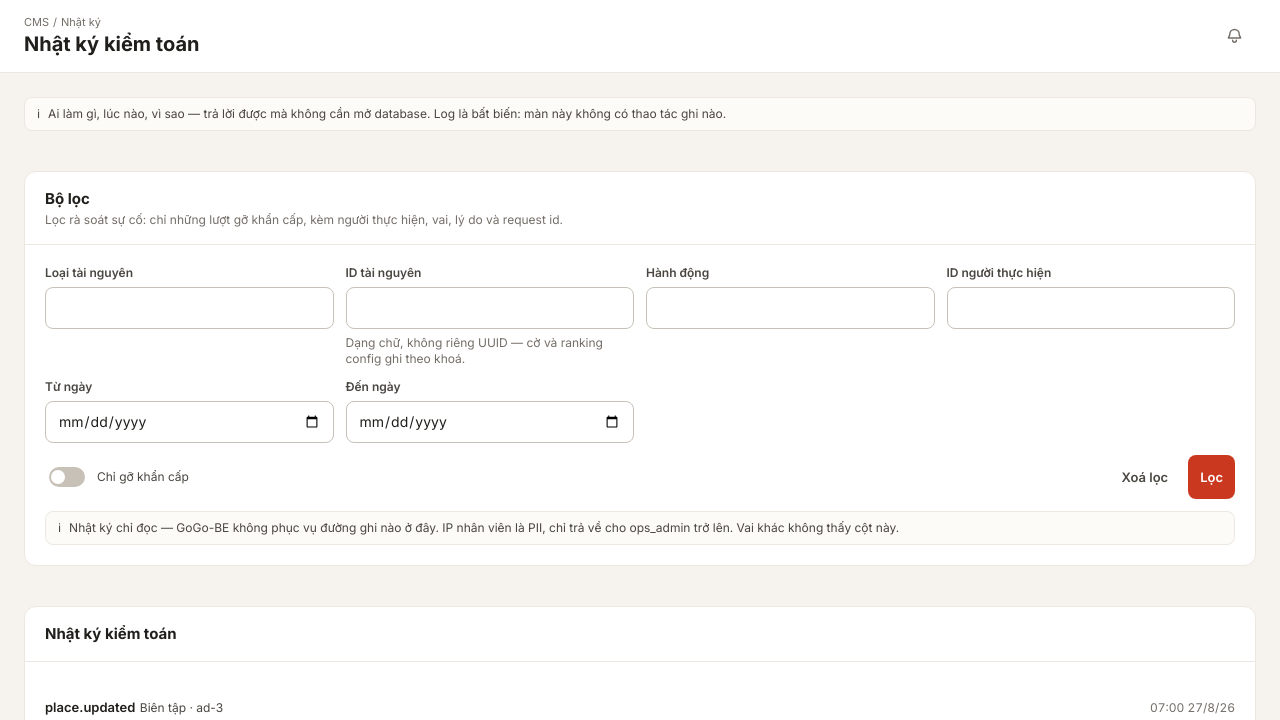
AuditLogScreen › the break-glass filter changes the result, not just the query string
Expected: the text "place.updated" is shown, [45,699,135,715]
Click the switch named "Chỉ gỡ khẩn cấp": [67, 477] box [45,455,89,499]
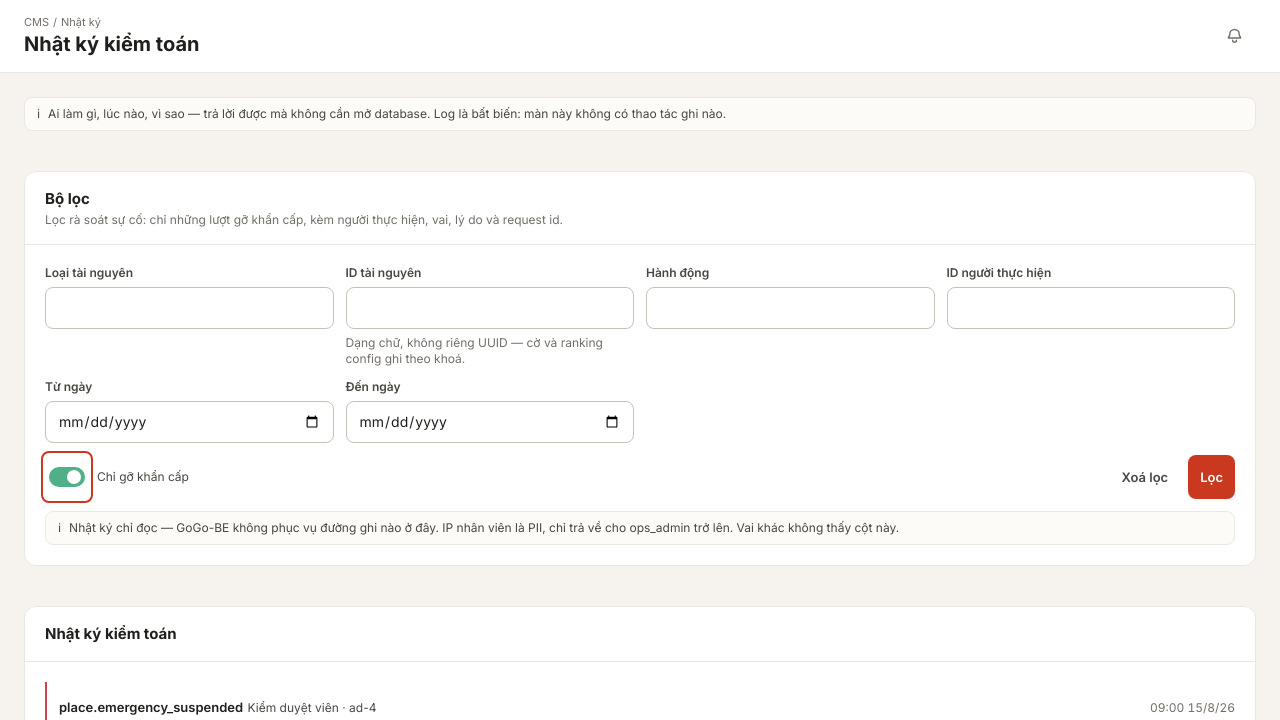
Expected: the text "place.emergency_suspended" is shown, [59,699,243,715]
Expected: the text "place.updated" is gone
